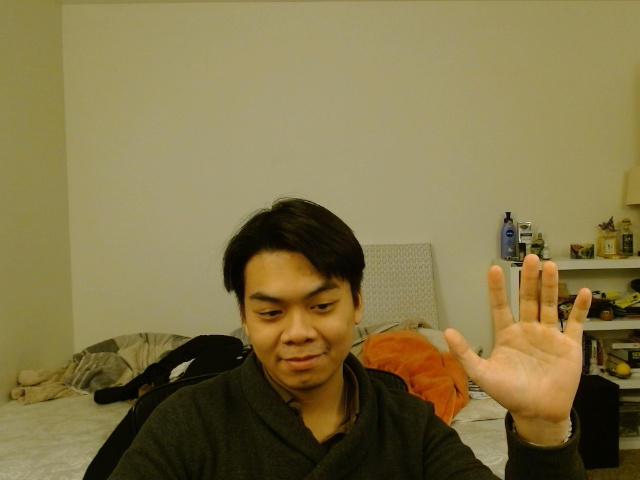Hello: (440, 251, 596, 420)
